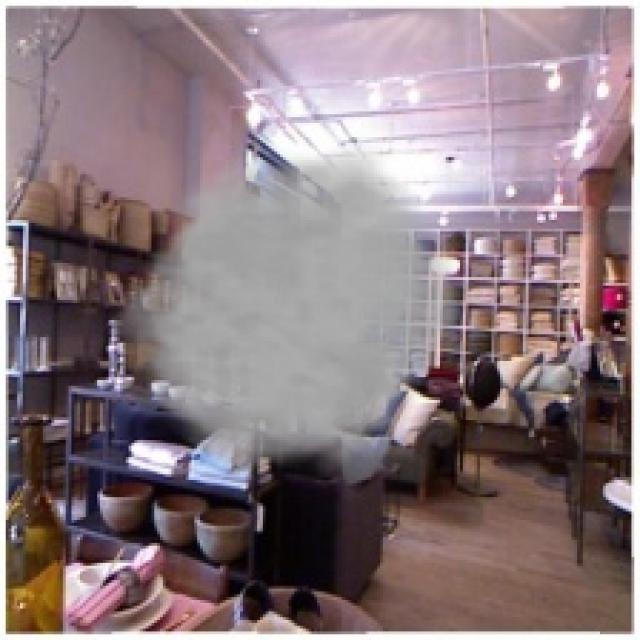smoke: (103, 134, 474, 477)
